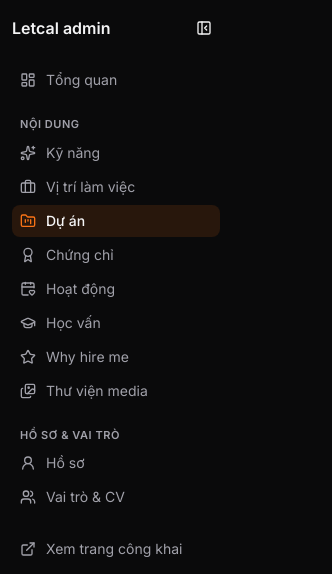
Scenario: AdminSidebar › remembers a collapsed sidebar
The image size is (332, 574).
Click the button named "Thu gọn menu" at (204, 28), box [188,12,220,44]
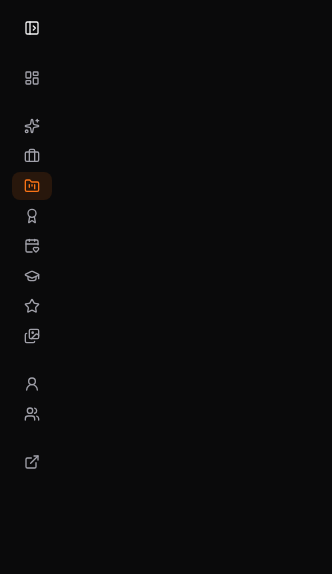
expect the button named "Mở rộng menu" is shown: met, box [16,12,48,44]
